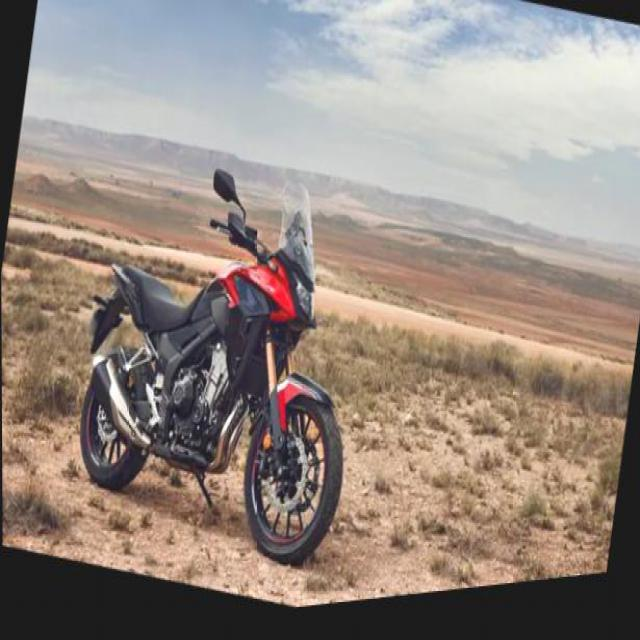CB500X: (63, 118, 381, 599)
